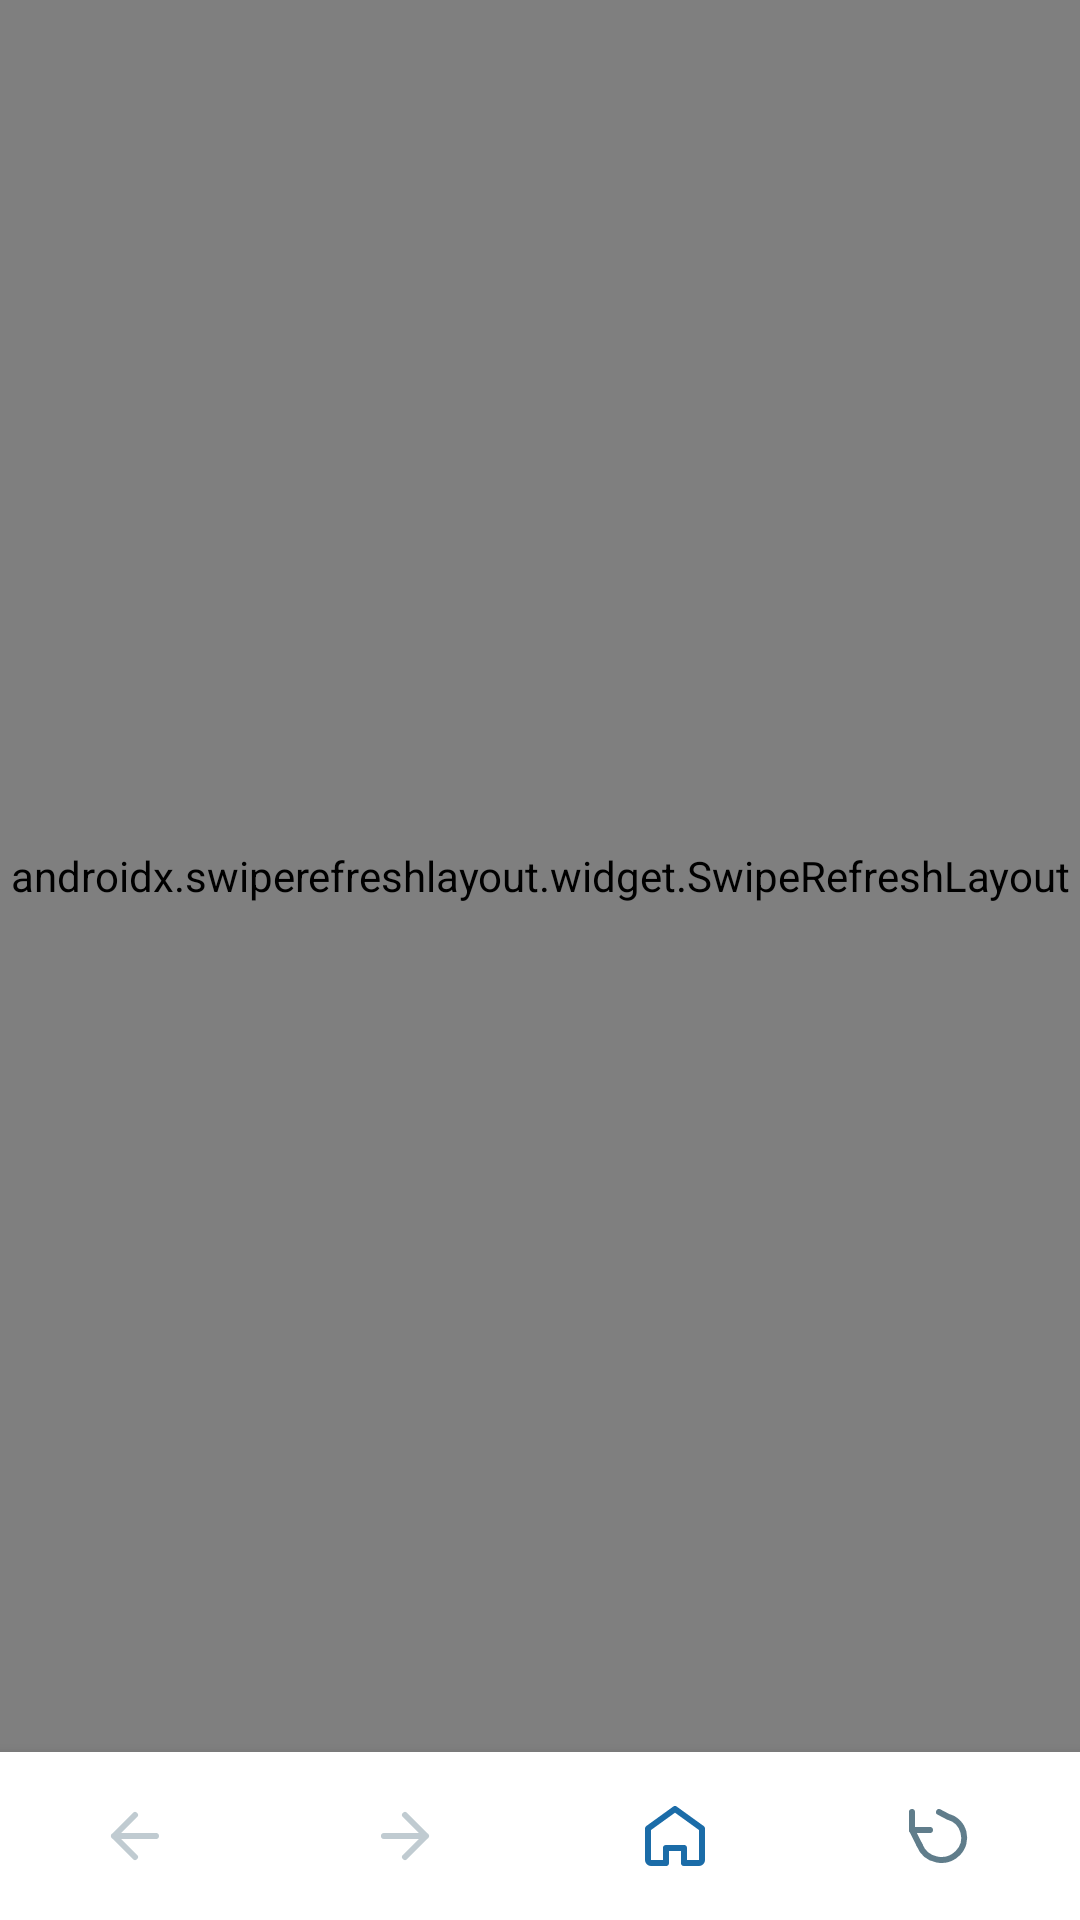

Icons on this 1080x1920 Android screen, each with its box as (x1, y1, x2, y2):
Back: (111, 1812, 159, 1860)
Forward: (381, 1812, 429, 1860)
Home: (645, 1806, 705, 1866)
